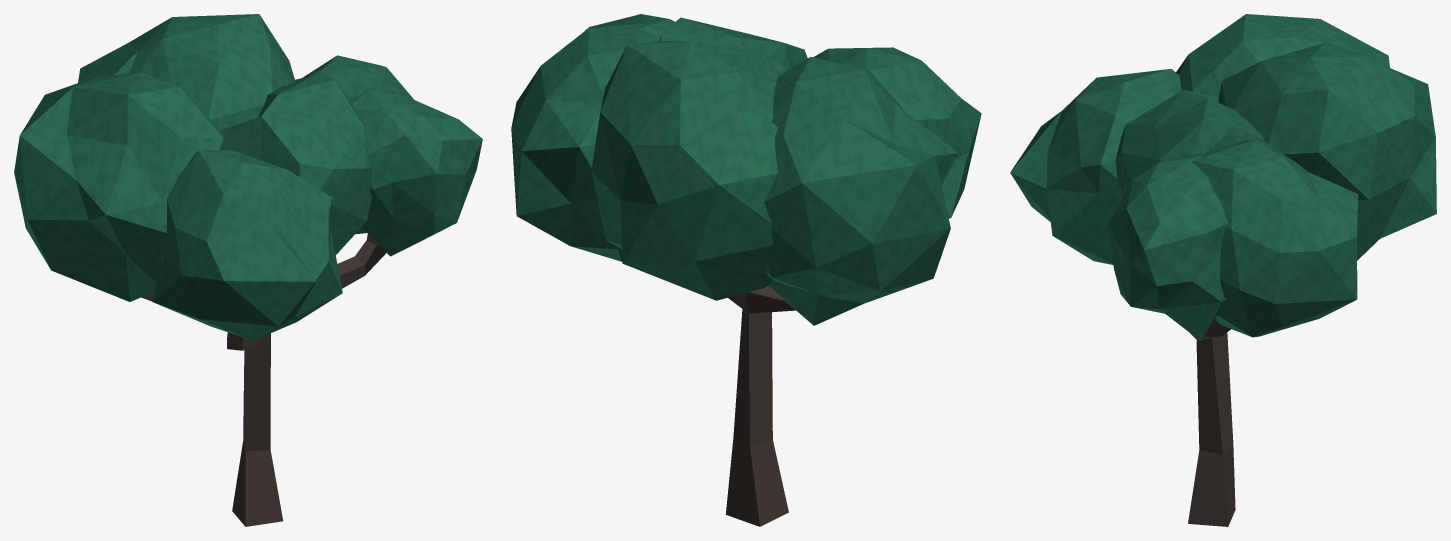
The model's file is Tree.fbx.
3 renders of one model, left to right at view 1: azimuth 30°, elevation 25°; view 2: azimuth 150°, elevation 25°; view 3: azimuth 270°, elevation 25°, orthographic. The views are drawn at different scales.
Parts seen in each view (by area): view 1: Icosphere; view 2: Icosphere; view 3: Icosphere.
Boxes of the visible parts, x1=… form: Icosphere: x1=14, y1=14, x2=482, y2=526; Icosphere: x1=511, y1=14, x2=981, y2=526; Icosphere: x1=1010, y1=14, x2=1436, y2=526.
Size of the model in its own units: 1545 by 1417 by 1703.
